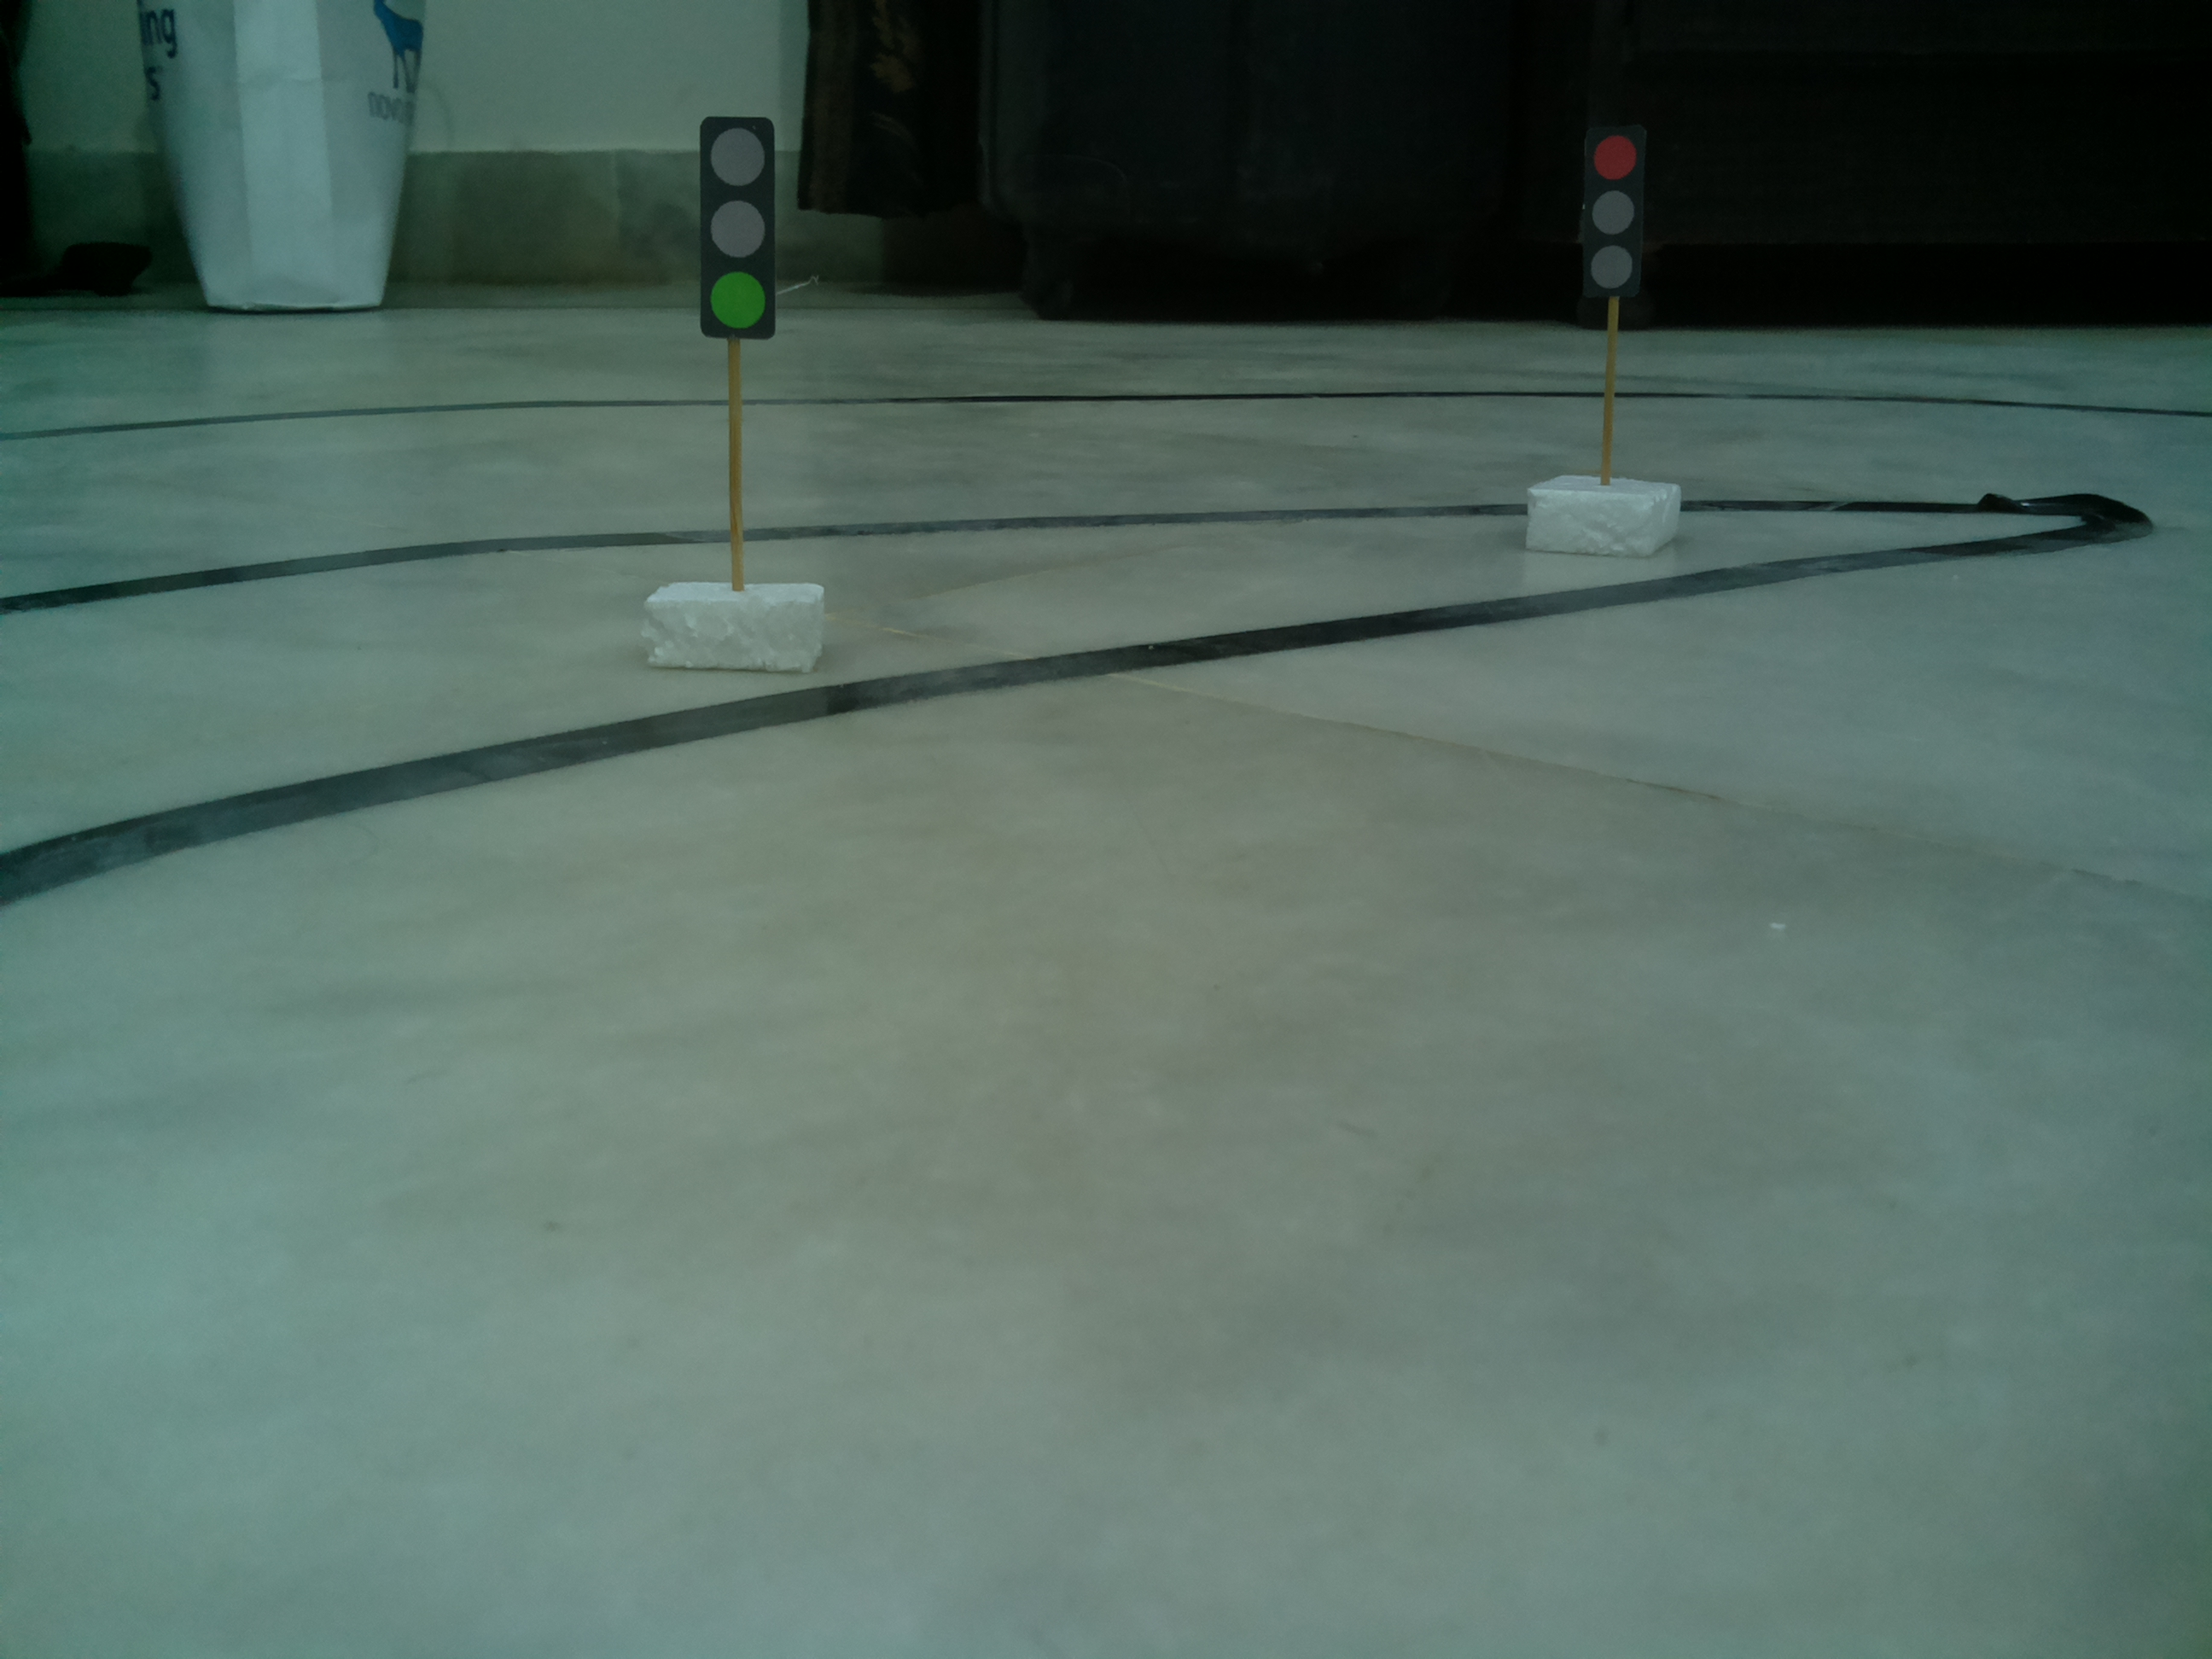Green traffic light: (697, 115, 784, 343)
Red traffic light: (1568, 112, 1651, 303)
